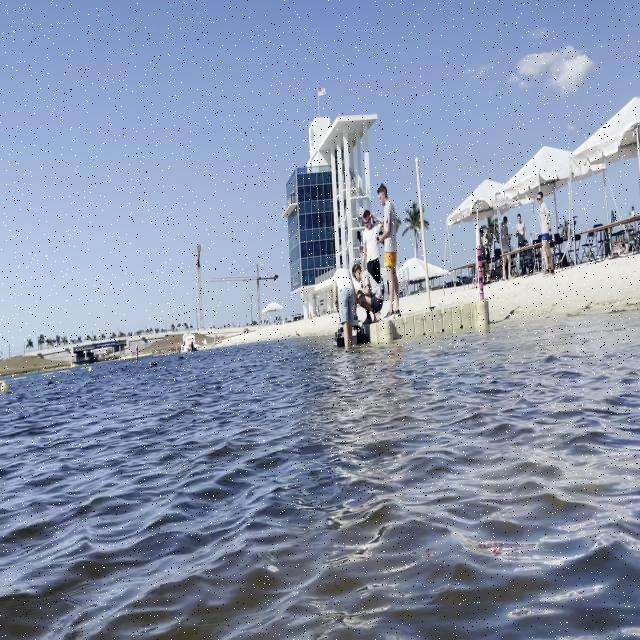buoy: (1, 378, 10, 396)
